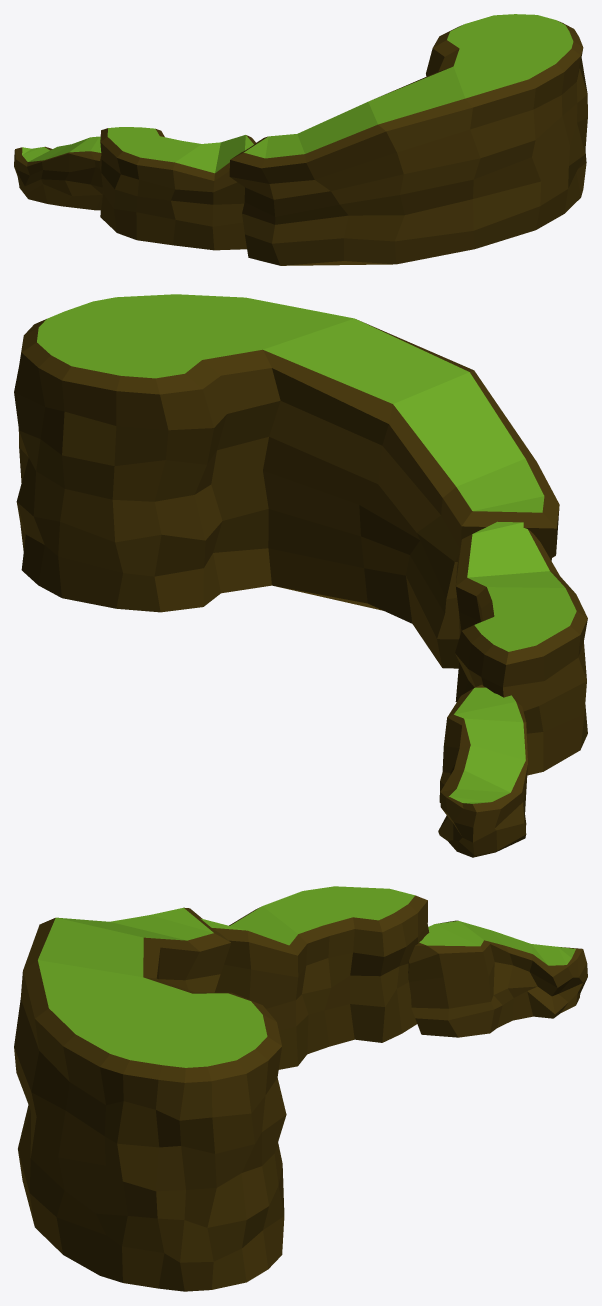
Rendered from AltarCliffAsset.fbx.
3 renders of one model, top to bottom at view 1: azimuth 30°, elevation 25°; view 2: azimuth 150°, elevation 25°; view 3: azimuth 270°, elevation 25°, orthographic. The views are drawn at different scales.
Parts seen in each view (by area): view 1: AltarCliffs; view 2: AltarCliffs; view 3: AltarCliffs.
Part boxes in pixels (x1,y1,x2,y2): AltarCliffs: (14,14,587,265); AltarCliffs: (14,294,587,857); AltarCliffs: (14,886,587,1291).
Size of the model in its own units: 5532 by 1846 by 4256.
